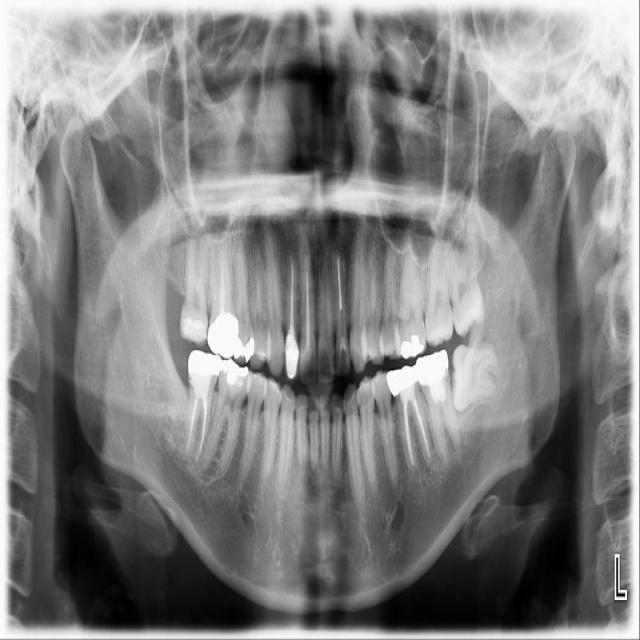Crown: (207, 313, 239, 358), (188, 349, 222, 387), (387, 361, 422, 397), (416, 350, 448, 387), (284, 336, 301, 381)
Filling: (222, 360, 249, 388), (178, 316, 208, 341), (401, 332, 423, 358), (234, 337, 254, 363)
Root Canal Treatment: (416, 402, 432, 459), (185, 395, 198, 460), (196, 396, 208, 458), (405, 405, 414, 464), (289, 260, 295, 336), (219, 247, 224, 312), (306, 265, 310, 338), (338, 256, 342, 312)
impacted tooth: (449, 213, 485, 339), (452, 344, 507, 410)
